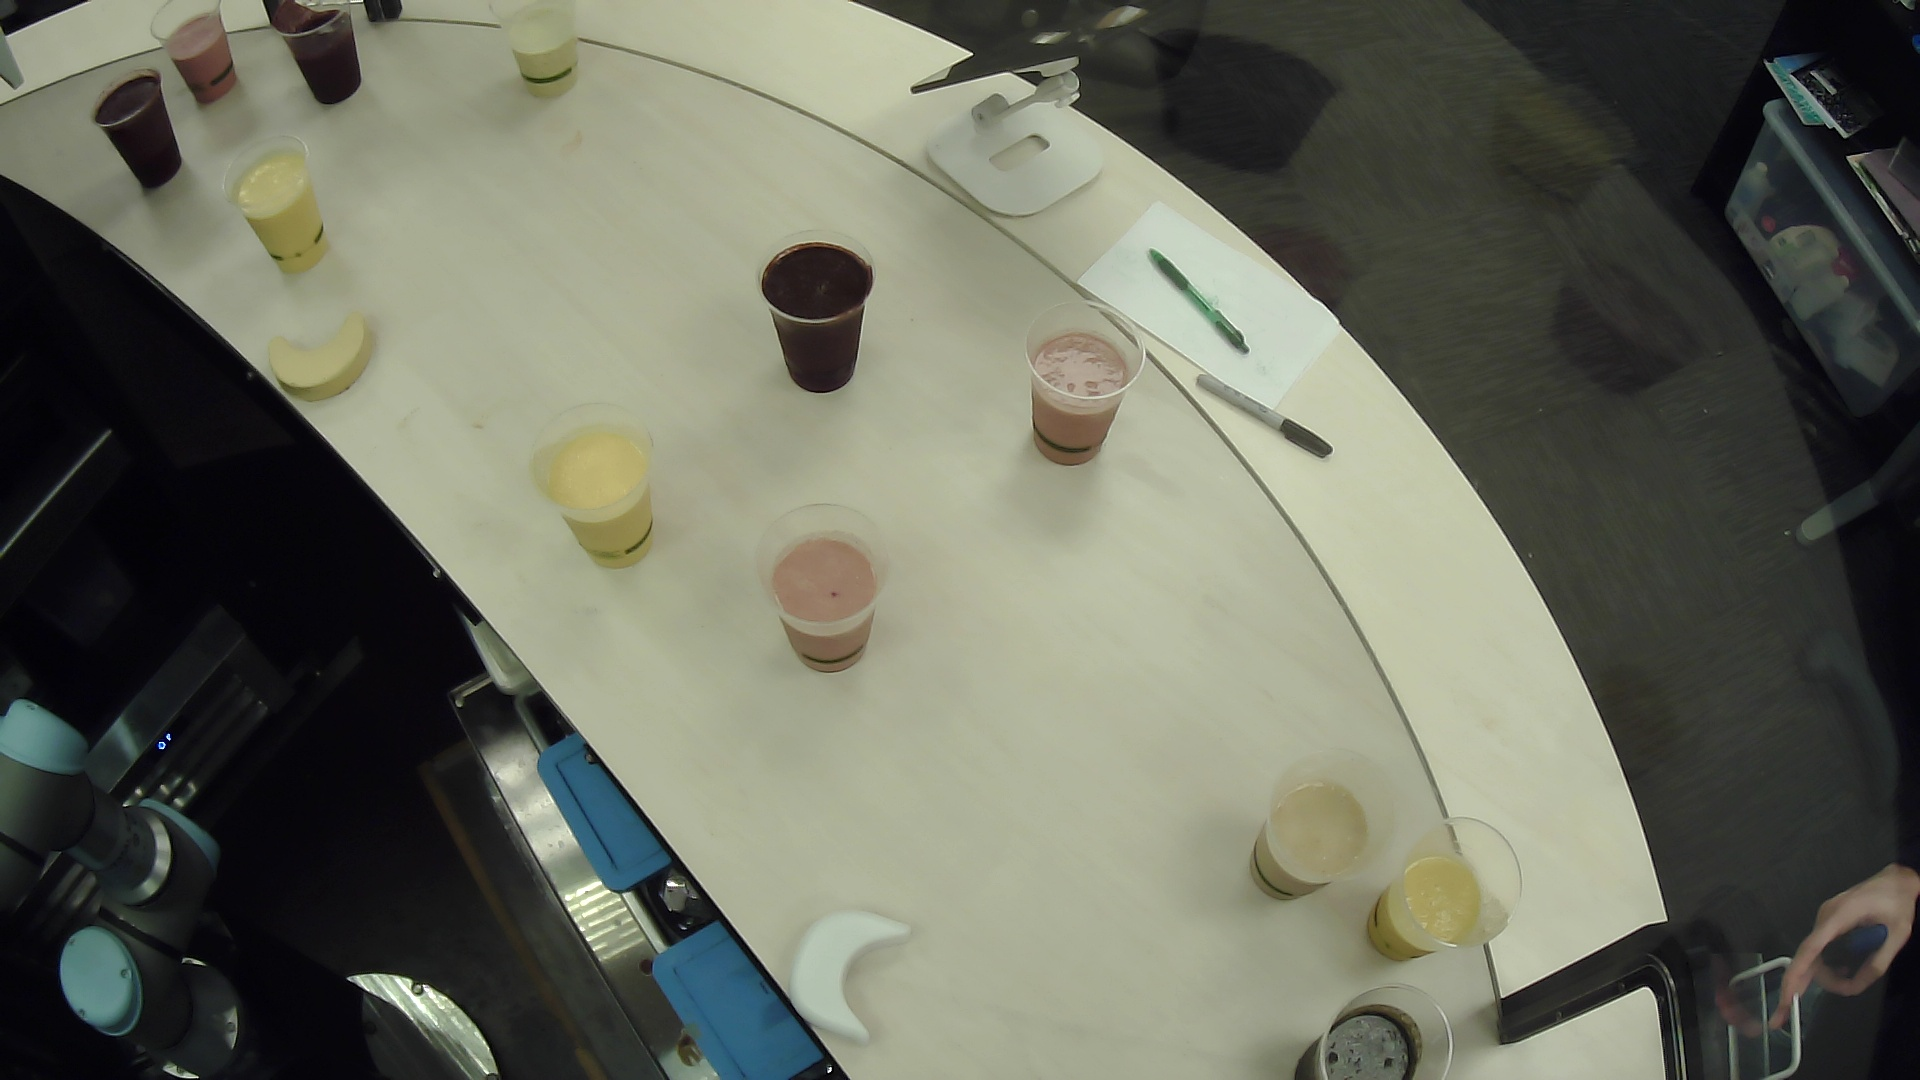Deliver: (778, 876, 956, 1055), (248, 291, 422, 410)
Full_cup: (512, 392, 686, 583), (1000, 287, 1163, 487), (738, 501, 905, 688), (1360, 806, 1542, 971), (1236, 746, 1411, 913), (746, 224, 893, 407), (211, 132, 343, 291), (1274, 969, 1453, 1080), (80, 61, 200, 196), (257, 1, 397, 117), (488, 1, 605, 127), (140, 1, 256, 117)
